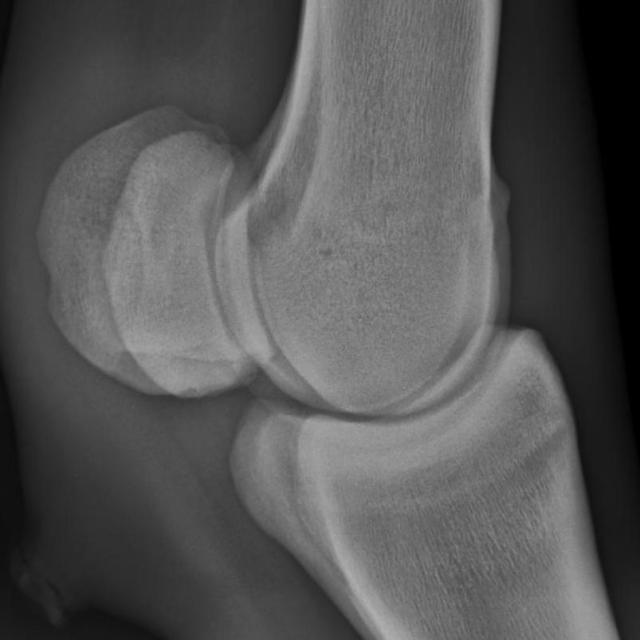bone remodeling: (475, 146, 546, 227)
